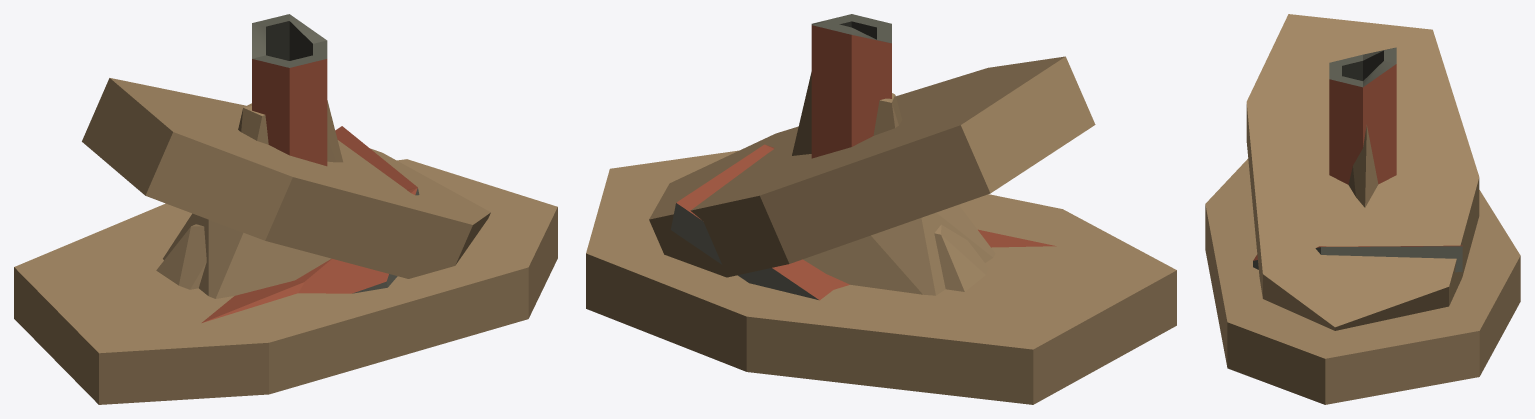
Rendered from clutter_kit.glb.
3 renders of one model, left to right at view 1: azimuth 30°, elevation 25°; view 2: azimuth 150°, elevation 25°; view 3: azimuth 270°, elevation 25°, orthographic. The views are drawn at different scales.
Parts seen in each view (by area): view 1: slab_a, slab_b, stub_a, rock_a, plate_b, rock_c, plate_a, rock_b; view 2: slab_a, slab_b, stub_a, rock_a, plate_b, rock_c, rock_b, plate_a; view 3: slab_b, slab_a, stub_a, plate_b, rock_b.
Part boxes in pixels (x1,y1,x2,y2): slab_a: (14,159,557,404); slab_b: (82,78,490,278); stub_a: (252,14,327,166); rock_a: (163,213,331,298); plate_b: (295,126,419,293); rock_c: (156,224,206,289); plate_a: (202,280,304,322); rock_b: (238,100,342,162); slab_a: (586,150,1176,404); slab_b: (649,56,1095,277); stub_a: (811,14,891,158); rock_a: (803,205,995,295); plate_b: (671,144,849,300); rock_c: (934,224,988,291); rock_b: (792,72,902,155); plate_a: (978,229,1056,247); slab_b: (1246,14,1479,330); slab_a: (1205,158,1520,404); stub_a: (1329,47,1396,184); plate_b: (1253,245,1462,272); rock_b: (1348,125,1378,207).
Bounding box in the file's own units: 1.05 × 0.55 × 0.65.
